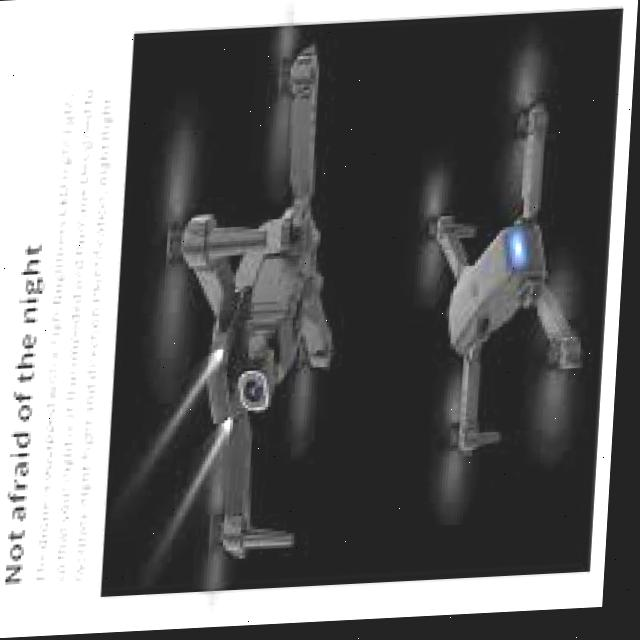drone: (104, 26, 378, 599), (397, 48, 622, 529)
